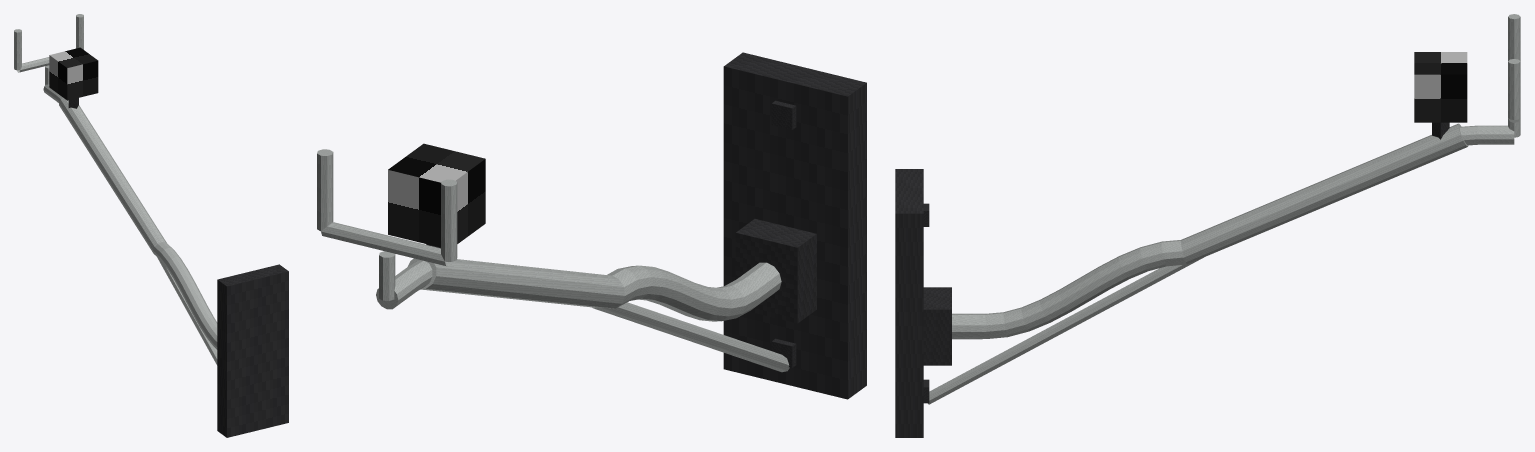
Rendered from arm_2_straight_flood_up.obj.
3 views of the same model, side by side, from view 1: azimuth 30°, elevation 25°; view 2: azimuth 150°, elevation 25°; view 3: azimuth 270°, elevation 25° (orthographic). The views are drawn at different scales.
Visible parts, largest first — view 1: pole_light_mount_2_straight_flood_up; view 2: pole_light_mount_2_straight_flood_up; view 3: pole_light_mount_2_straight_flood_up.
Boxes of the visible parts, <box> form: pole_light_mount_2_straight_flood_up: <box>14,14,288,437</box>; pole_light_mount_2_straight_flood_up: <box>317,52,866,399</box>; pole_light_mount_2_straight_flood_up: <box>895,14,1520,437</box>.
Bounding box in the file's own units: 0.419 × 1.47 × 2.21.
